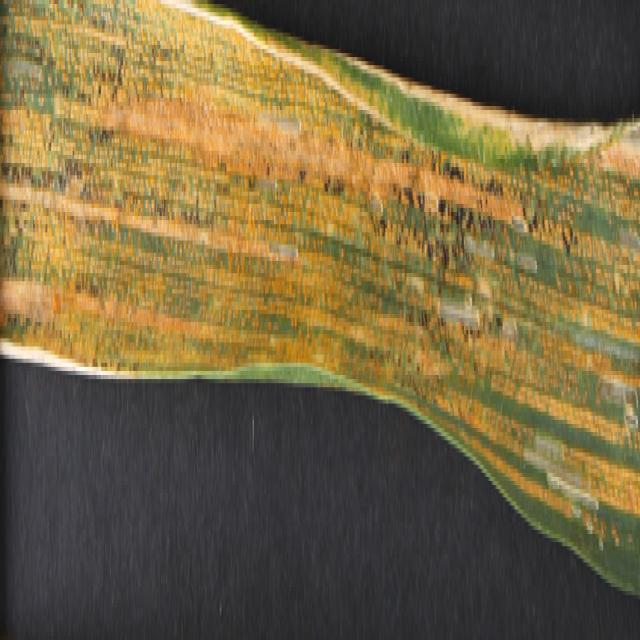leaf rust: (1, 8, 639, 583)
